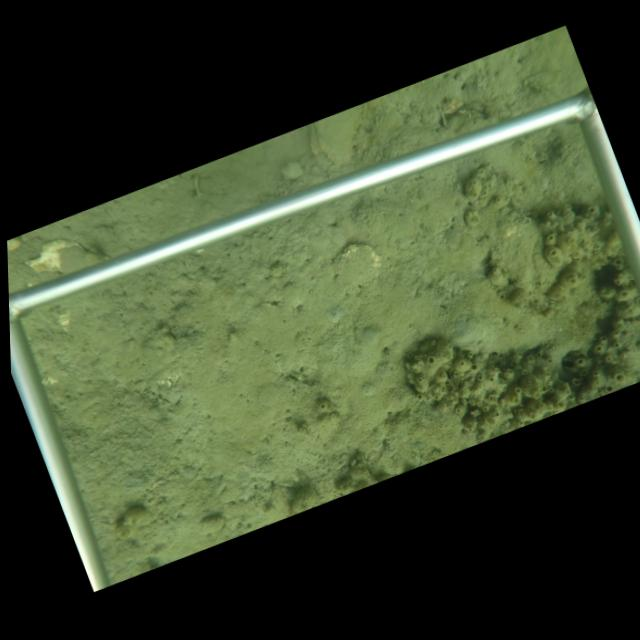Oyster-Closed: (309, 102, 371, 173)
Oyster-Indeterminate: (488, 203, 557, 294), (329, 242, 382, 291)
